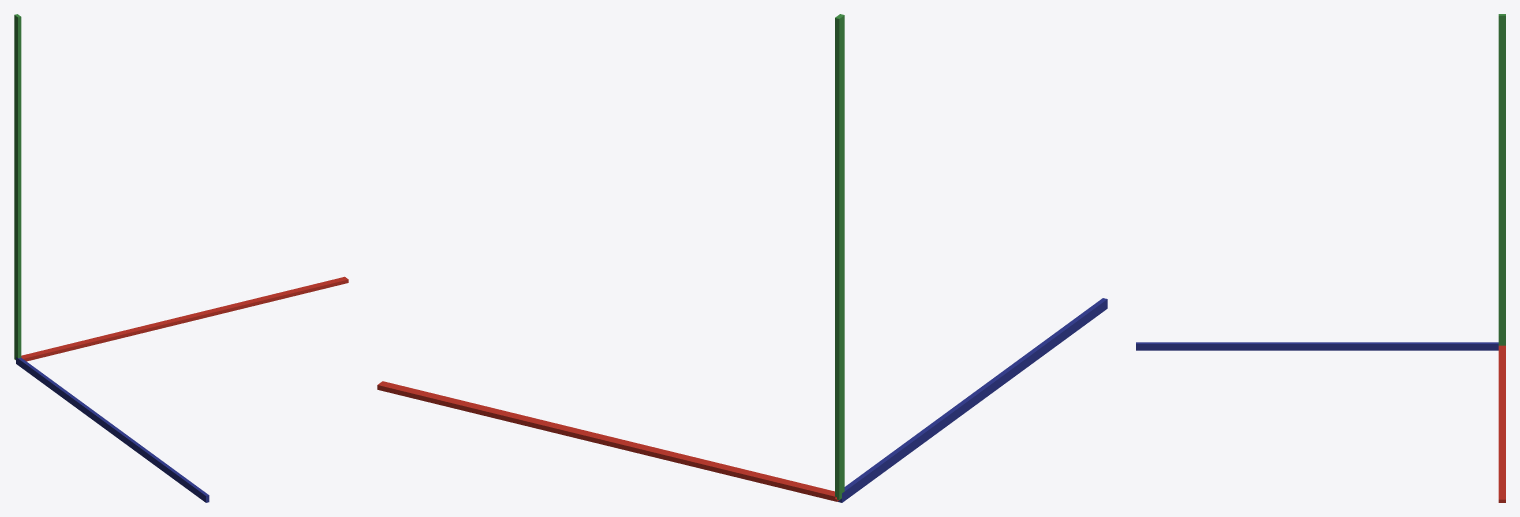
File: Triad.fbx
The picture shows the model from 3 angles, left to right: view 1: azimuth 30°, elevation 25°; view 2: azimuth 150°, elevation 25°; view 3: azimuth 270°, elevation 25°; orthographic projection. The views are drawn at different scales.
Visible parts, largest first — view 1: Body2, Body1, Body3; view 2: Body1, Body2, Body3; view 3: Body3, Body2, Body1.
Boxes of the visible parts, x1,y1,x2,y2 form: Body2: (14,14,21,359); Body1: (21,276,348,361); Body3: (16,357,209,502); Body1: (377,381,839,501); Body2: (835,14,844,499); Body3: (837,298,1107,502); Body3: (1136,342,1498,350); Body2: (1498,14,1505,345); Body1: (1498,345,1505,502).
Size of the model in its own units: 101 by 101 by 101.
